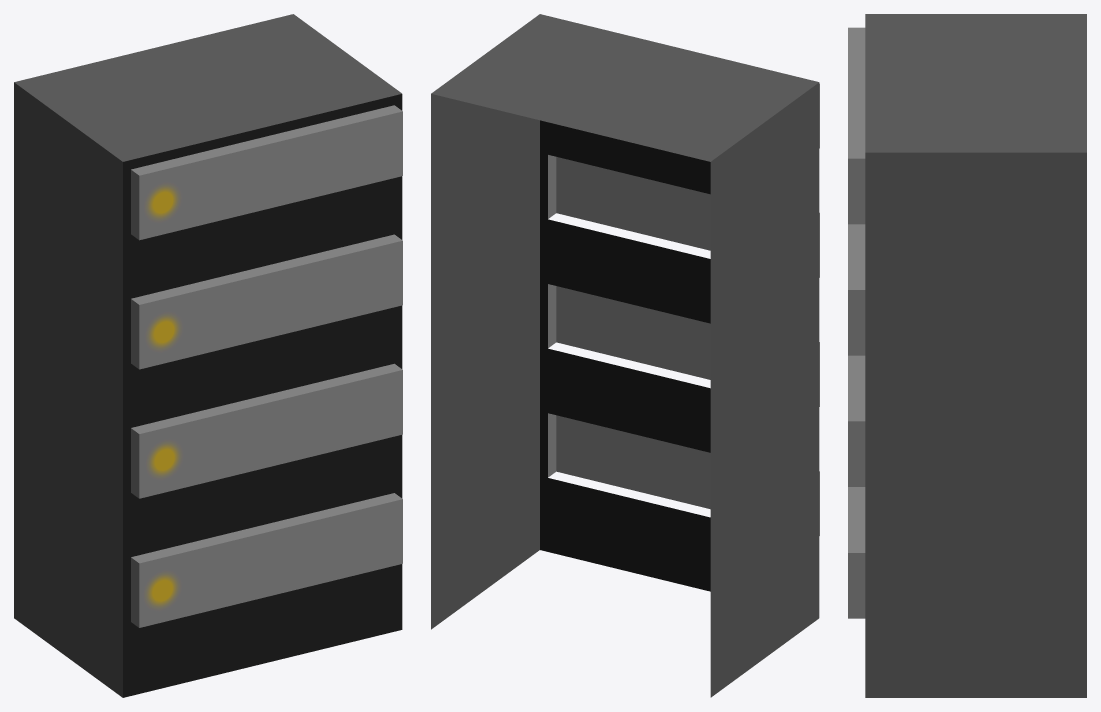
The model's file is DataBank_2.fbx.
The picture shows the model from 3 angles, left to right: view 1: azimuth 30°, elevation 25°; view 2: azimuth 150°, elevation 25°; view 3: azimuth 270°, elevation 25°; orthographic projection.
Visible parts, largest first — view 1: DataBank_2; view 2: DataBank_2; view 3: DataBank_2.
Part boxes in pixels (x1,y1,x2,y2): DataBank_2: (14, 14, 402, 697); DataBank_2: (431, 14, 819, 697); DataBank_2: (848, 14, 1086, 697).
Size of the model in its own units: 1 by 1.83 by 0.7274.
Materials: 1 (1 with a texture image).
